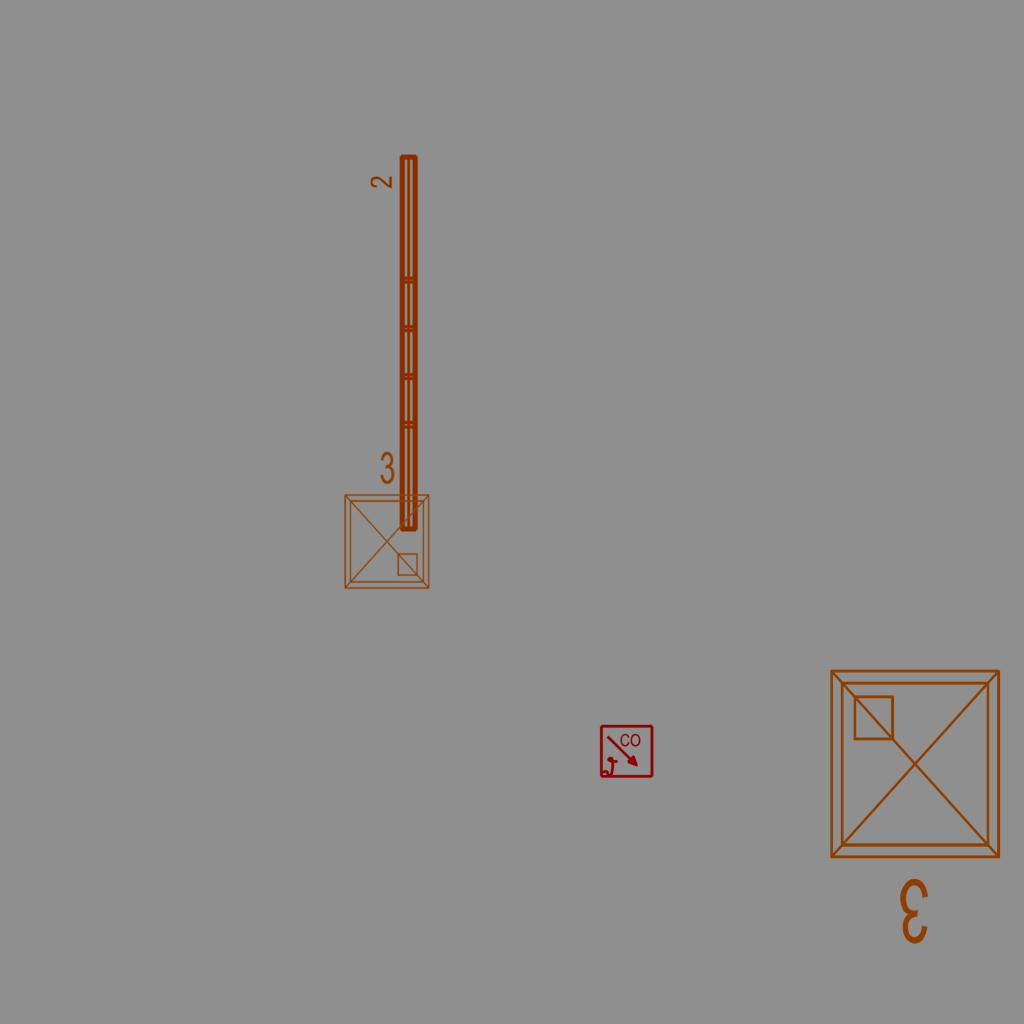Ambulanz_Pendelleuchte_LED: (368, 150, 424, 537)
Einbaudownlights_LED_Konferenzraeume: (815, 655, 1023, 955), (333, 446, 437, 596)
ROA_Rauchmelder_optisch_mit_Signalgeber_(Sockelsirene): (599, 724, 655, 780)
